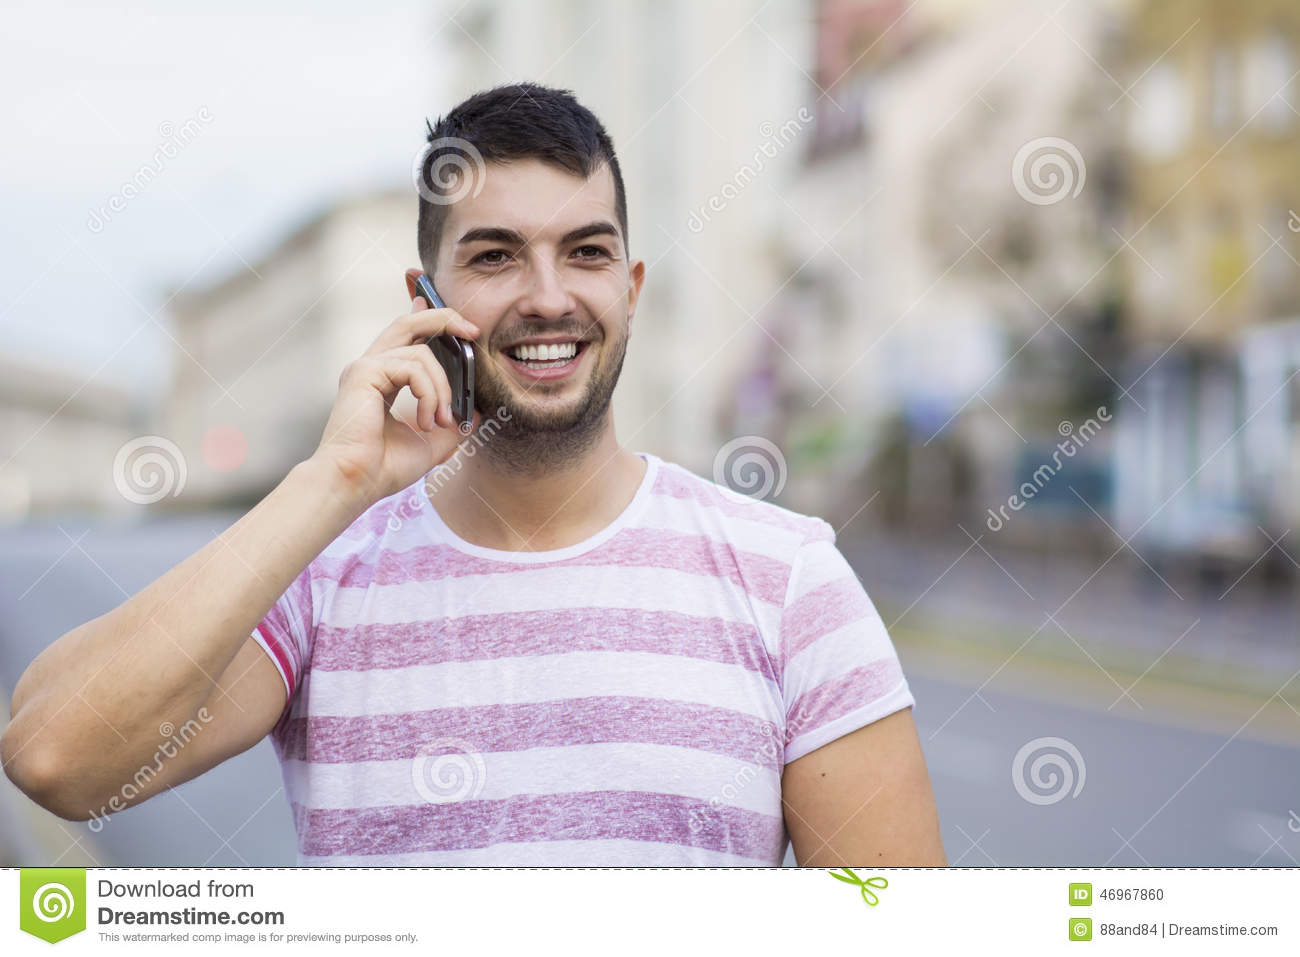phone: (401, 270, 476, 425)
talk: (324, 223, 631, 514)
